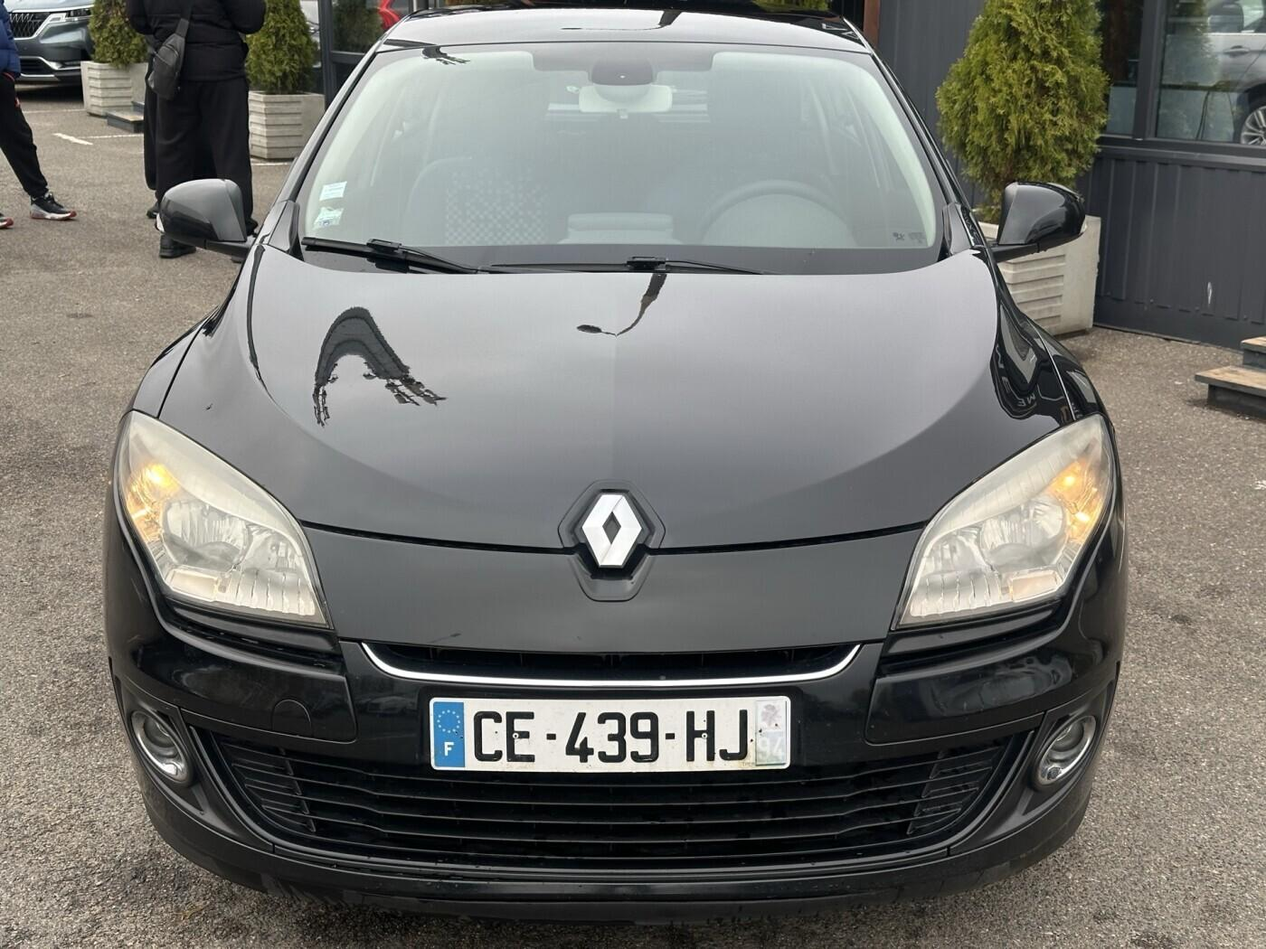Megane_2012-2014: (96, 10, 1138, 914)
